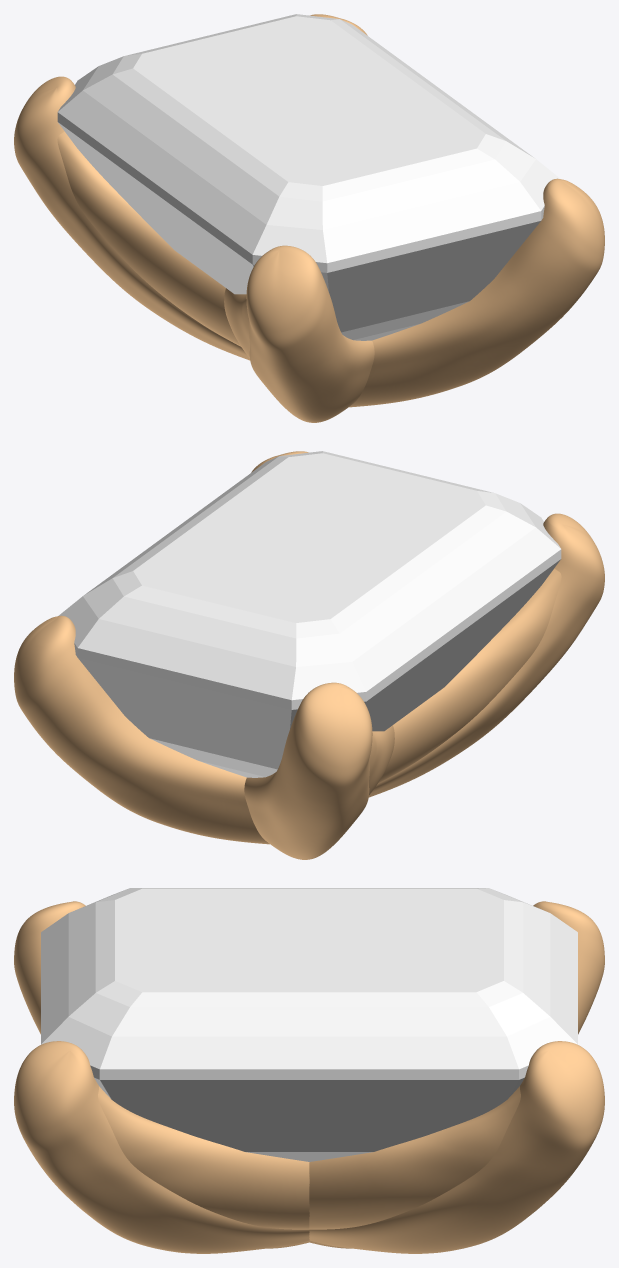
File: emeraldhead.glb
3 renders of one model, top to bottom at view 1: azimuth 30°, elevation 25°; view 2: azimuth 150°, elevation 25°; view 3: azimuth 270°, elevation 25°, orthographic. The views are drawn at different scales.
Parts seen in each view (by area): view 1: Diamond_Emerald, Head-1.3dm; view 2: Diamond_Emerald, Head-1.3dm; view 3: Diamond_Emerald, Head-1.3dm.
Part boxes in pixels (box(x1,y1,x2,y2)): Diamond_Emerald: box(57, 14, 560, 340); Head-1.3dm: box(14, 14, 604, 422); Diamond_Emerald: box(58, 451, 561, 777); Head-1.3dm: box(14, 451, 604, 859); Diamond_Emerald: box(41, 888, 577, 1161); Head-1.3dm: box(14, 901, 604, 1253).
Bounding box in the file's own units: 2.15 × 1.68 × 2.92.
